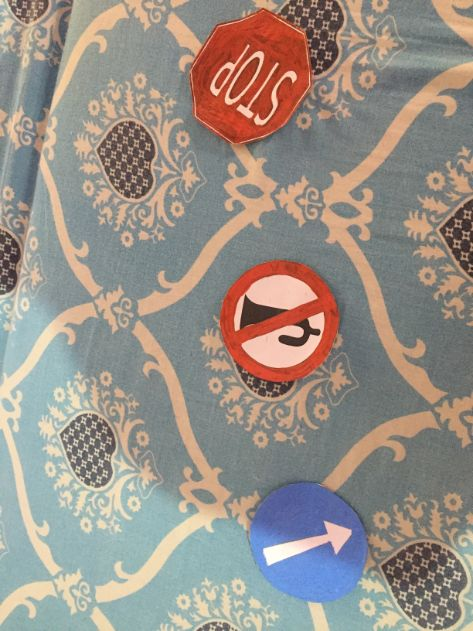keep-left: (250, 483, 368, 604)
no-horn: (220, 262, 340, 384)
stop: (188, 10, 310, 145)
